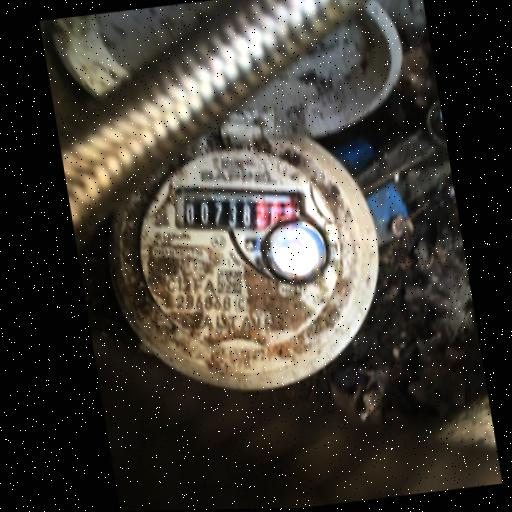0: (179, 198, 201, 229), (194, 199, 215, 228)
1: (280, 193, 300, 222)
2: (251, 201, 271, 230)
3: (222, 199, 246, 231)
6: (265, 200, 285, 230)
7: (207, 199, 230, 229)
8: (237, 199, 257, 230)
border_water_meter_number: (169, 175, 313, 247)
